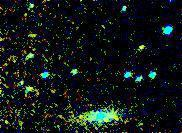star: (0, 109, 21, 133)
